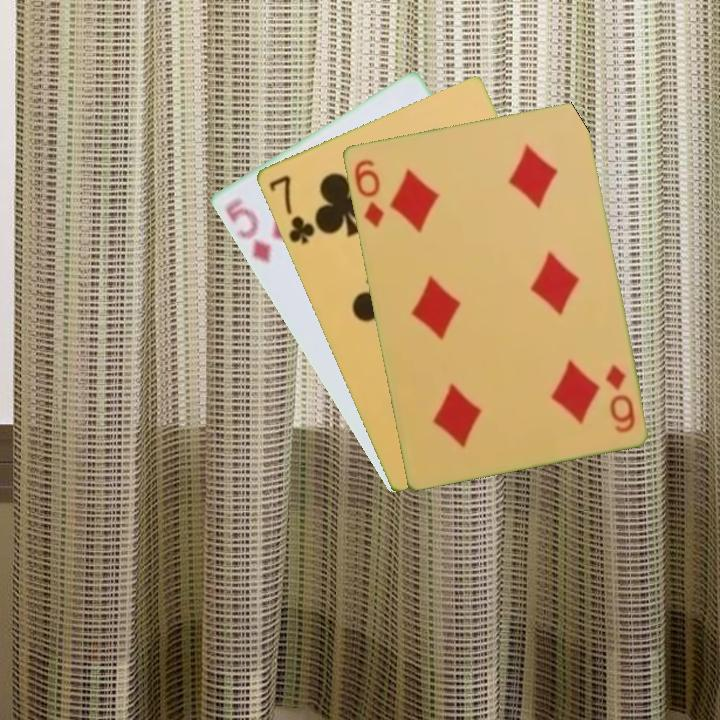5d: (221, 193, 273, 266)
6d: (601, 360, 638, 436), (350, 155, 387, 230)
7c: (265, 171, 318, 247)
